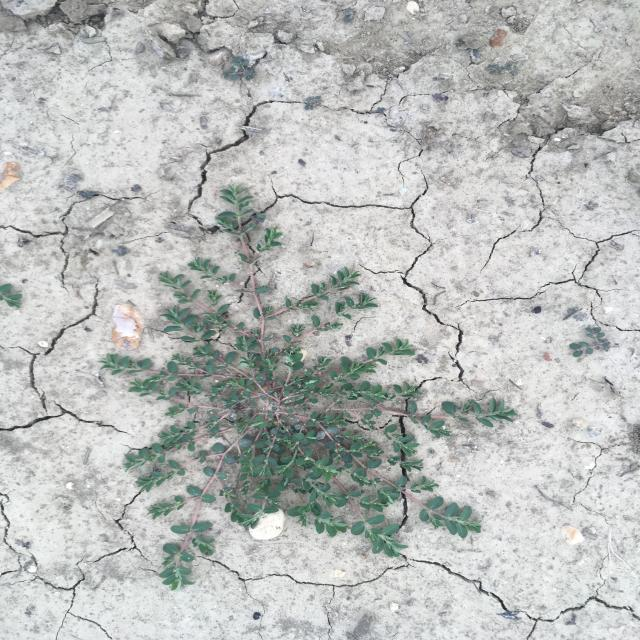SpottedSpurge: (96, 181, 519, 594)
